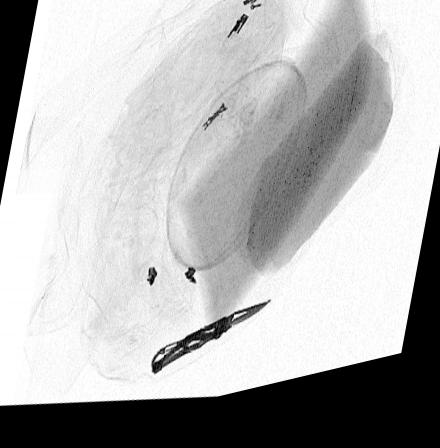Knife: (150, 312, 272, 382)
